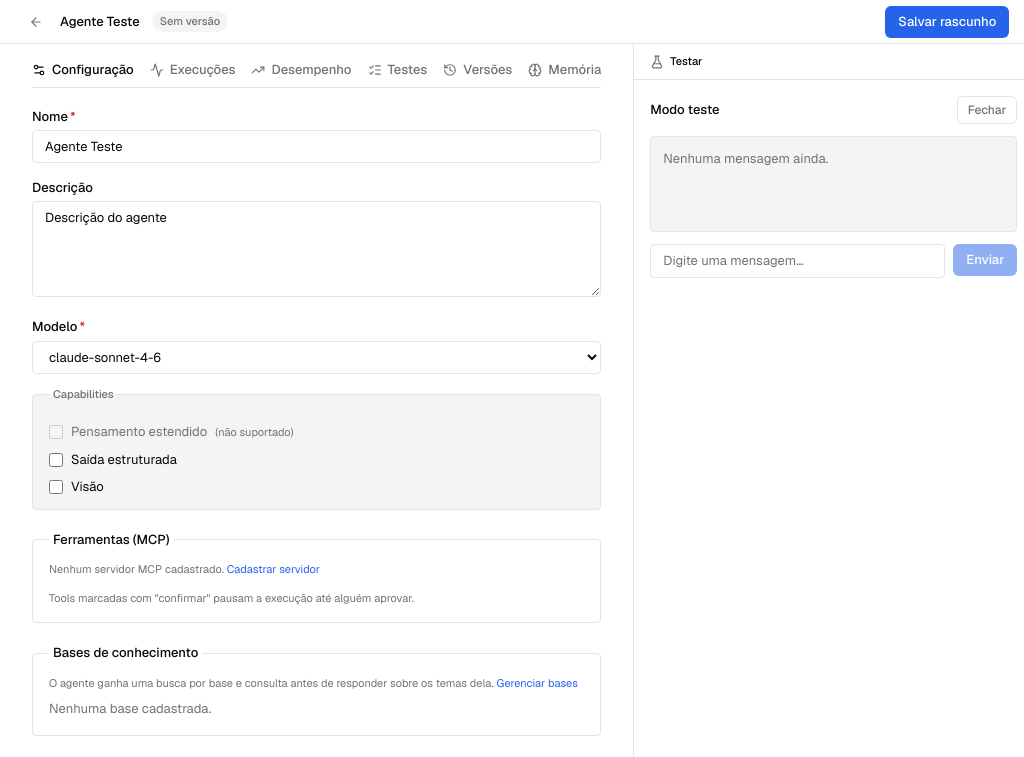
Scenario: AgentEditPage › salva rascunho ao submeter o formulário
The image size is (1024, 757).
Expected: the field showing "Agente Teste" is shown, left=32, top=130, right=601, bottom=163
Click the button "Salvar rascunho" at (947, 22), box left=885, top=6, right=1009, bottom=38
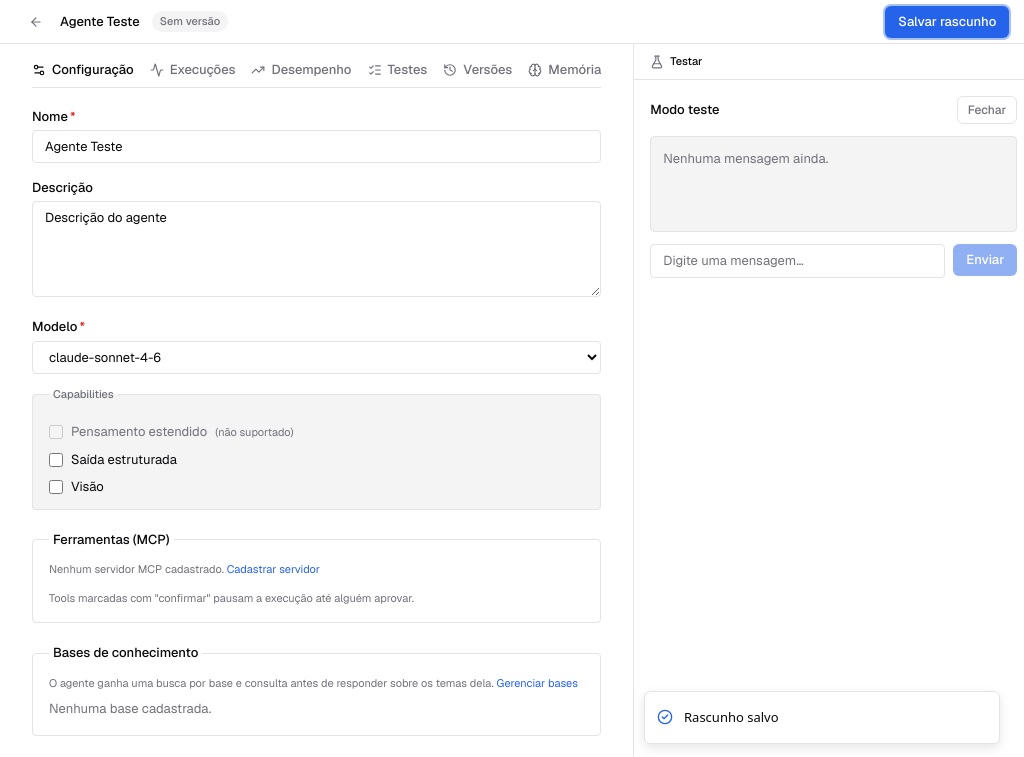
Now the text "Rascunho salvo" is shown, box left=684, top=708, right=778, bottom=727
